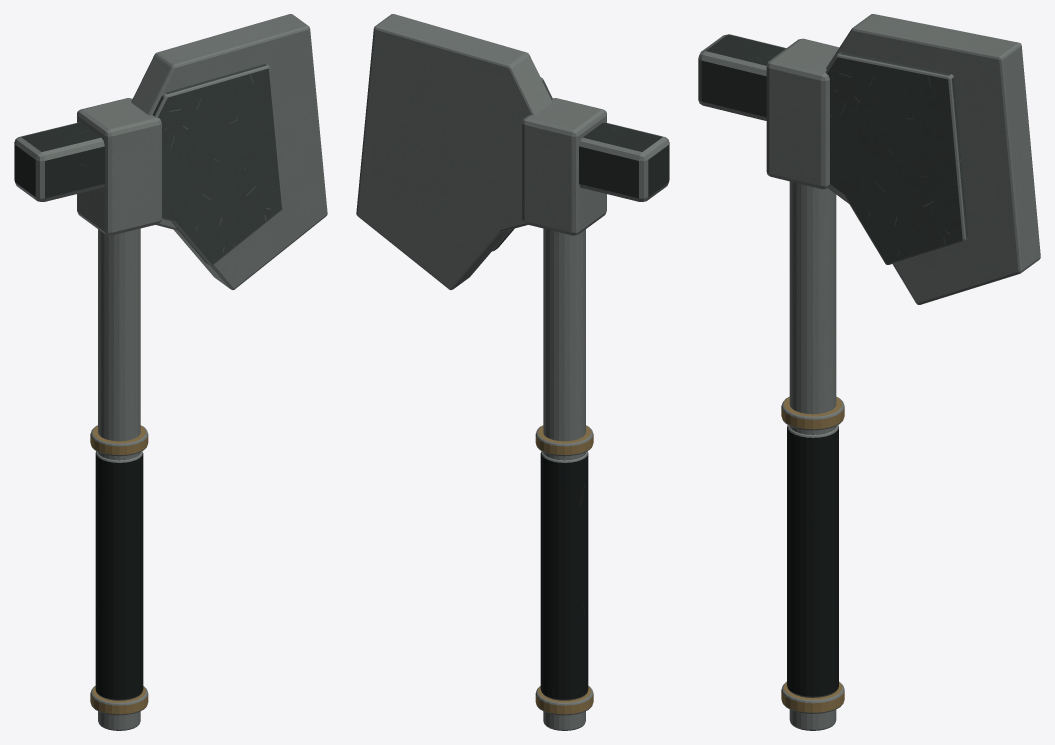
File: axe-t2.glb
3 views of the same model, side by side, from view 1: azimuth 30°, elevation 25°; view 2: azimuth 150°, elevation 25°; view 3: azimuth 330°, elevation 25° (orthographic). The views are drawn at different scales.
Parts seen in each view (by area): view 1: Axe painted cheek, Axe continuous cutting edge, Continuous two-hand wrap, Steel shaft, Axe shaft socket, Counterweight poll, Grip ferrule.001, Grip ferrule; view 2: Axe continuous cutting edge, Continuous two-hand wrap, Steel shaft, Axe shaft socket, Counterweight poll, Grip ferrule.001, Grip ferrule; view 3: Axe continuous cutting edge, Axe painted cheek, Continuous two-hand wrap, Steel shaft, Axe shaft socket, Counterweight poll, Grip ferrule.001, Grip ferrule.
Part boxes in pixels (x1,y1,x2,y2): Axe painted cheek: [152, 64, 282, 265]; Axe continuous cutting edge: [131, 14, 327, 289]; Continuous two-hand wrap: [95, 451, 143, 700]; Steel shaft: [98, 228, 140, 730]; Axe shaft socket: [77, 98, 161, 235]; Counterweight poll: [14, 122, 104, 201]; Grip ferrule.001: [90, 425, 148, 456]; Grip ferrule: [90, 686, 148, 715]; Axe continuous cutting edge: [356, 14, 552, 289]; Continuous two-hand wrap: [540, 451, 588, 700]; Steel shaft: [543, 228, 585, 730]; Axe shaft socket: [522, 98, 606, 235]; Counterweight poll: [579, 122, 669, 201]; Grip ferrule.001: [535, 425, 593, 456]; Grip ferrule: [535, 686, 593, 715]; Axe continuous cutting edge: [826, 14, 1040, 304]; Axe painted cheek: [825, 52, 968, 264]; Continuous two-hand wrap: [787, 425, 838, 697]; Steel shaft: [789, 181, 836, 730]; Axe shaft socket: [766, 38, 839, 189]; Counterweight poll: [698, 34, 786, 120]; Grip ferrule.001: [781, 396, 844, 430]; Grip ferrule: [781, 681, 844, 713].
Bounding box in the file's own units: 0.9842 × 2.11 × 0.19.
Materials: 5 (5 with a texture image).
